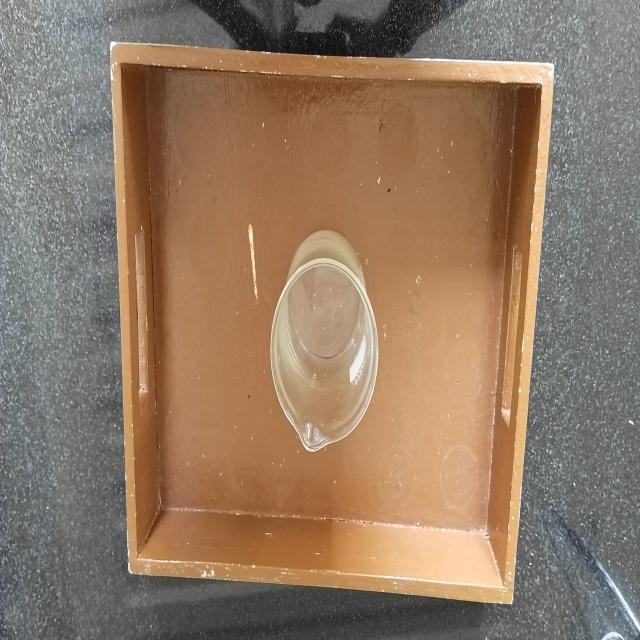beaker: (266, 222, 382, 458)
